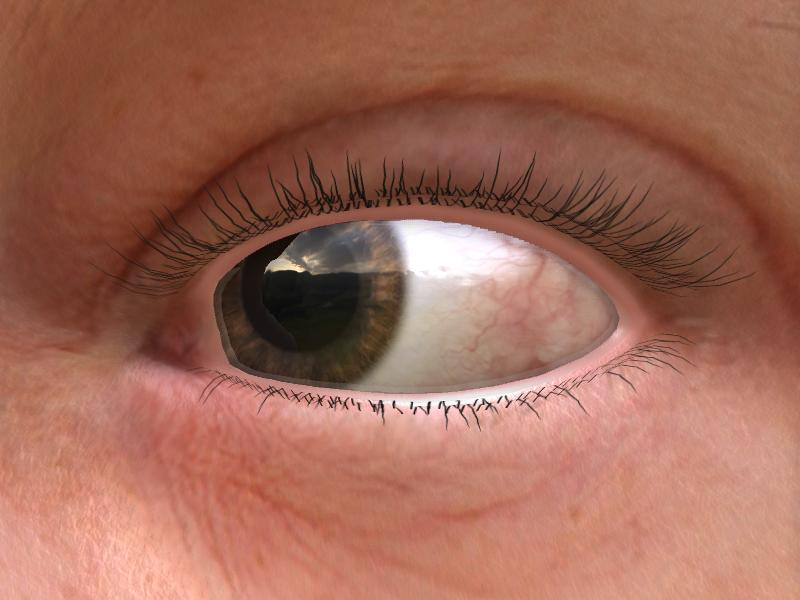eye: (216, 220, 406, 389)
